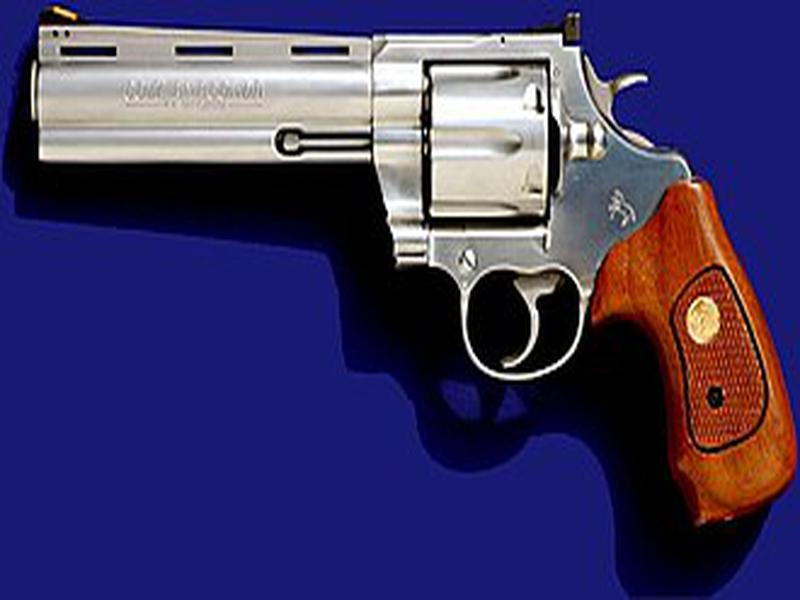Revolver: (19, 1, 800, 530)
